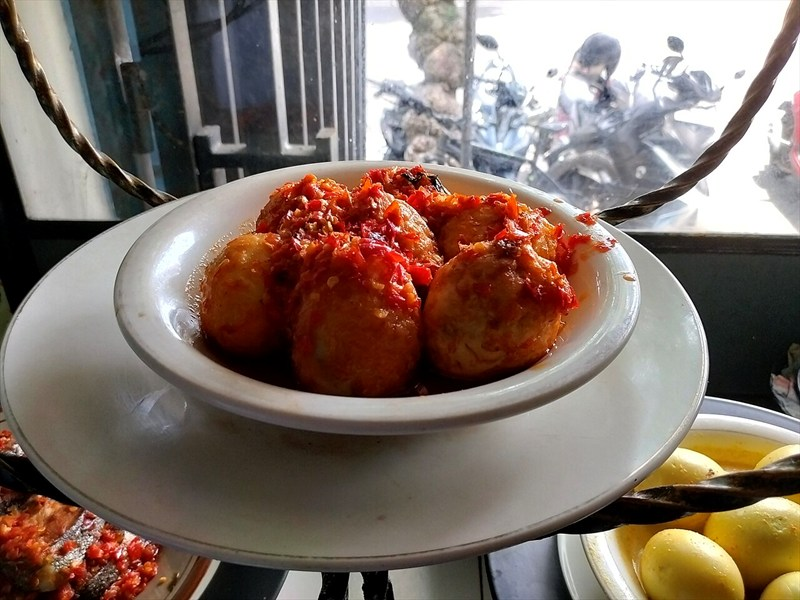Telur Balado: (57, 49, 758, 571)
